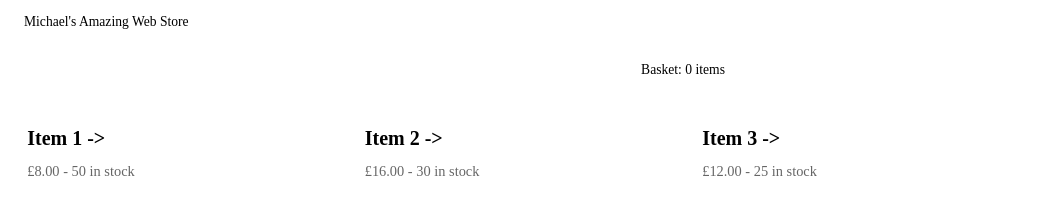
Test: Shopping Cart Integration › navigates to checkout with correct cart data when basket is clicked
Click the button "Item 1 -> £8.00 - 50 in stock".
click(55, 138)  # box [8,94,346,198]
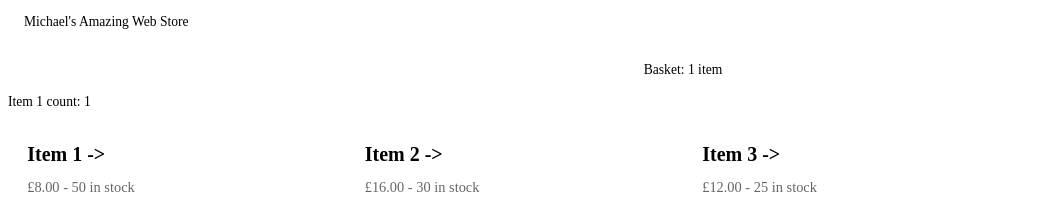
Check: the link shows "item", box [644,62,722,77]
Check: the link shows "1", box [644,62,722,77]
